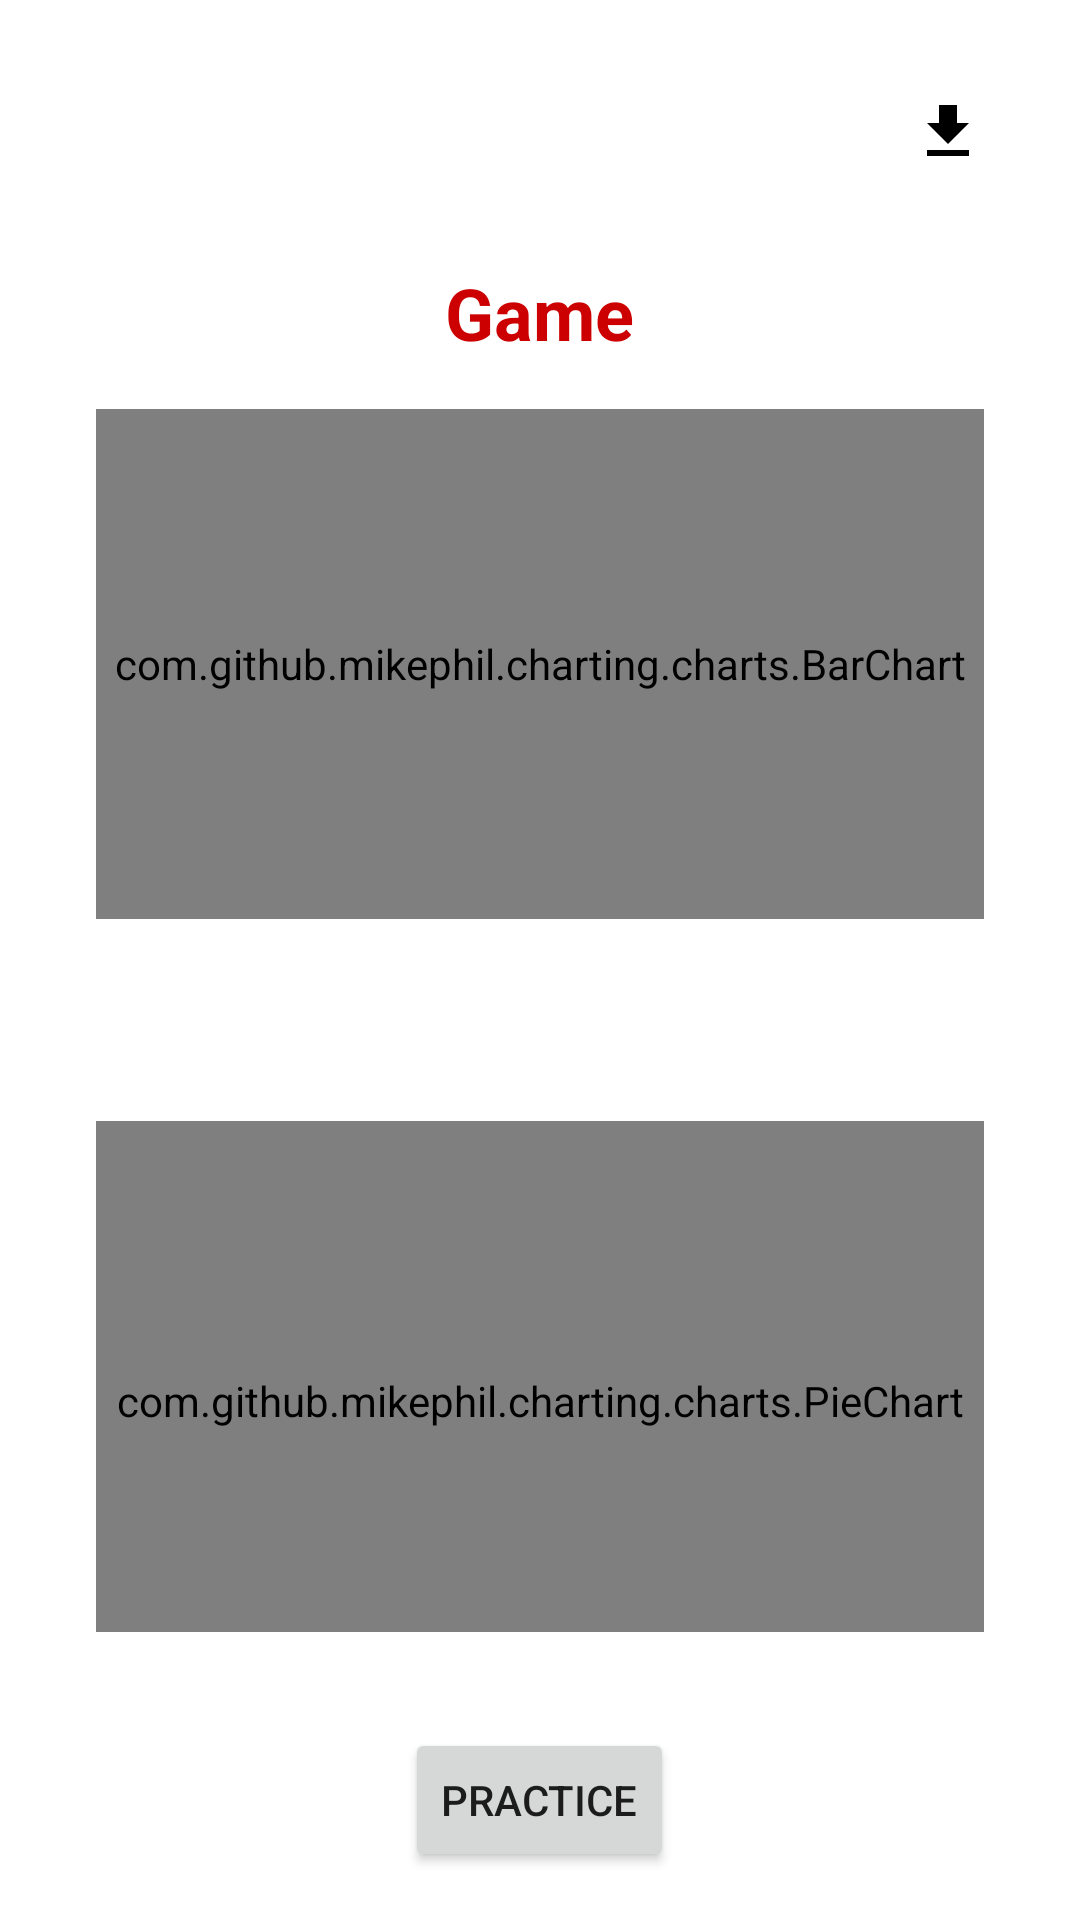

Icons on this 1080x1920 Android screen, each with its box as (x1, y1, x2, y2):
Download Analytics: (927, 105, 969, 156)
